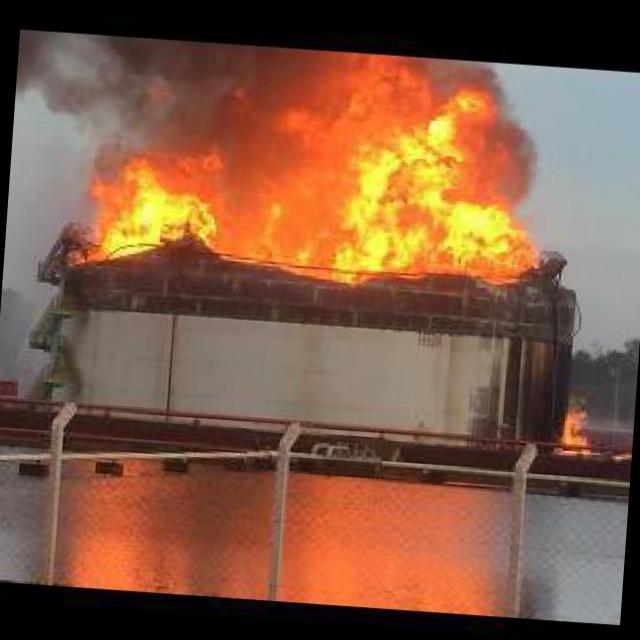fire: (72, 68, 529, 294), (553, 401, 591, 452)
